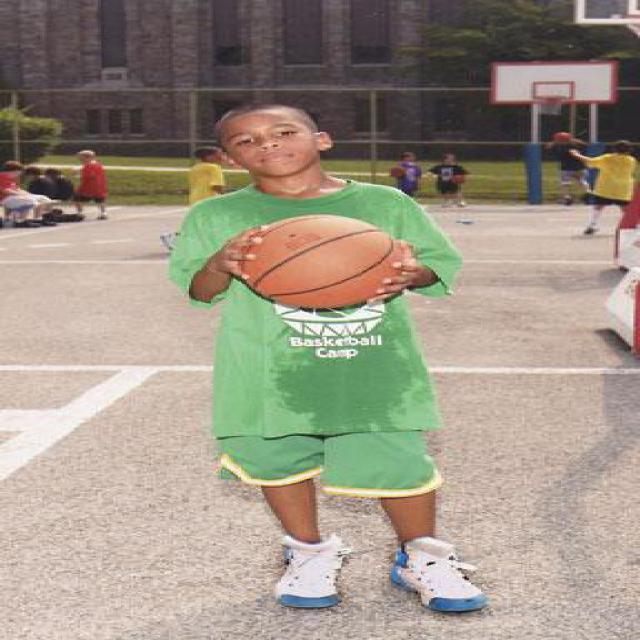basketball: (235, 215, 406, 313)
